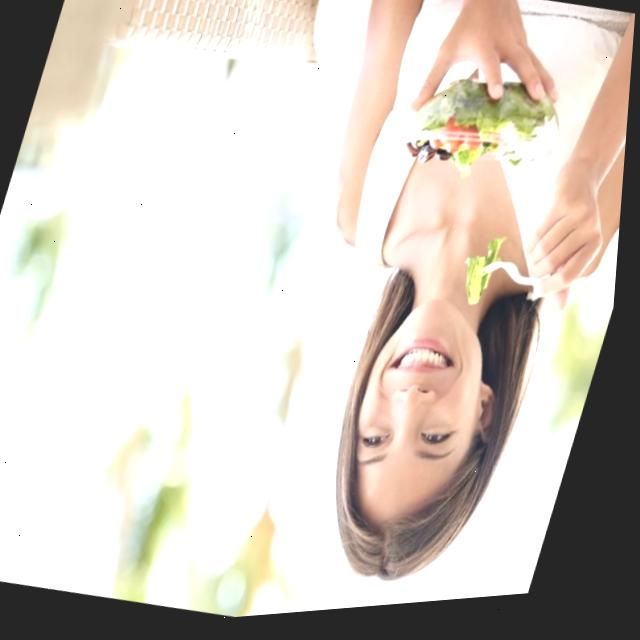eating-person: (206, 0, 640, 624)
